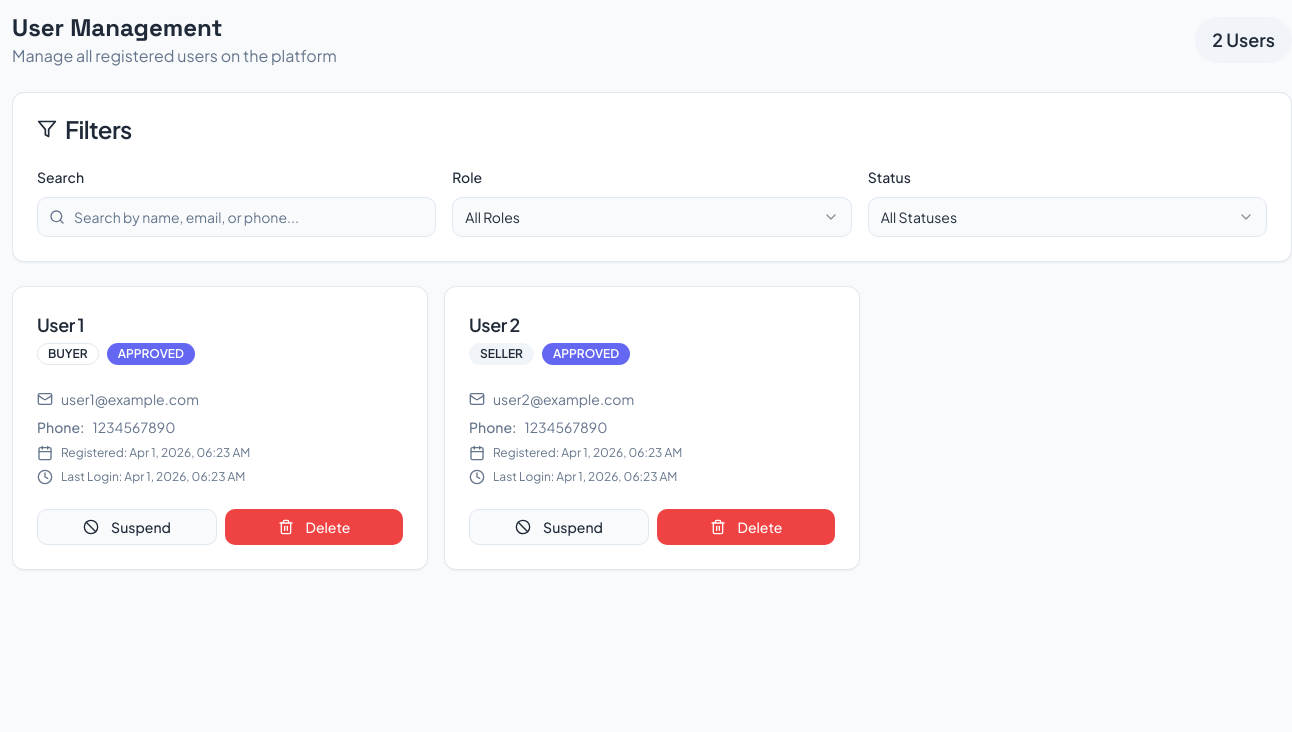
Test: UserManagement › should reset all filters when reset button is clicked
expect the text "User 1" is shown: met, box 37,313 -> 84,336
Note: Apply filters
Type "User 1" into the field with placeholder "Search by name, email, or phone..." at (237, 217), box 37,197 -> 436,237
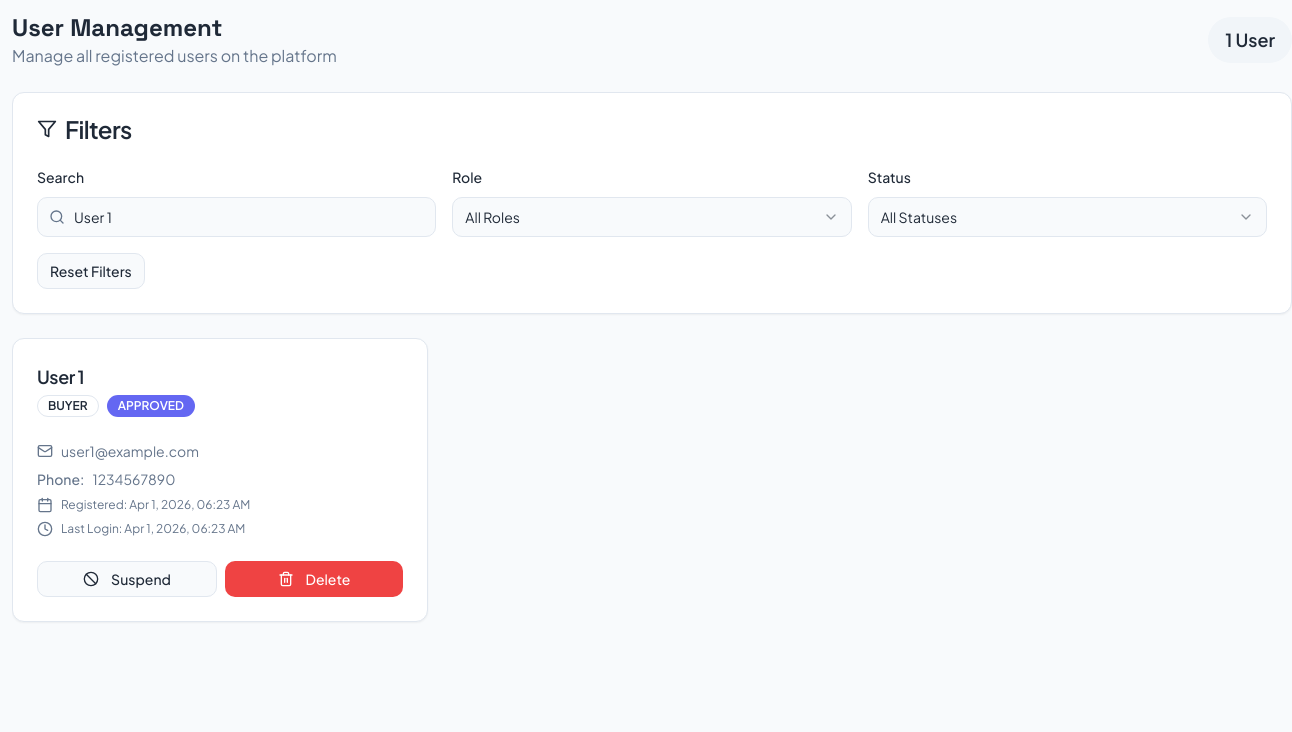
expect the text "User 2" is gone: met
Note: Reset filters
Click the button "Reset Filters" at (91, 271), box 37,253 -> 145,289
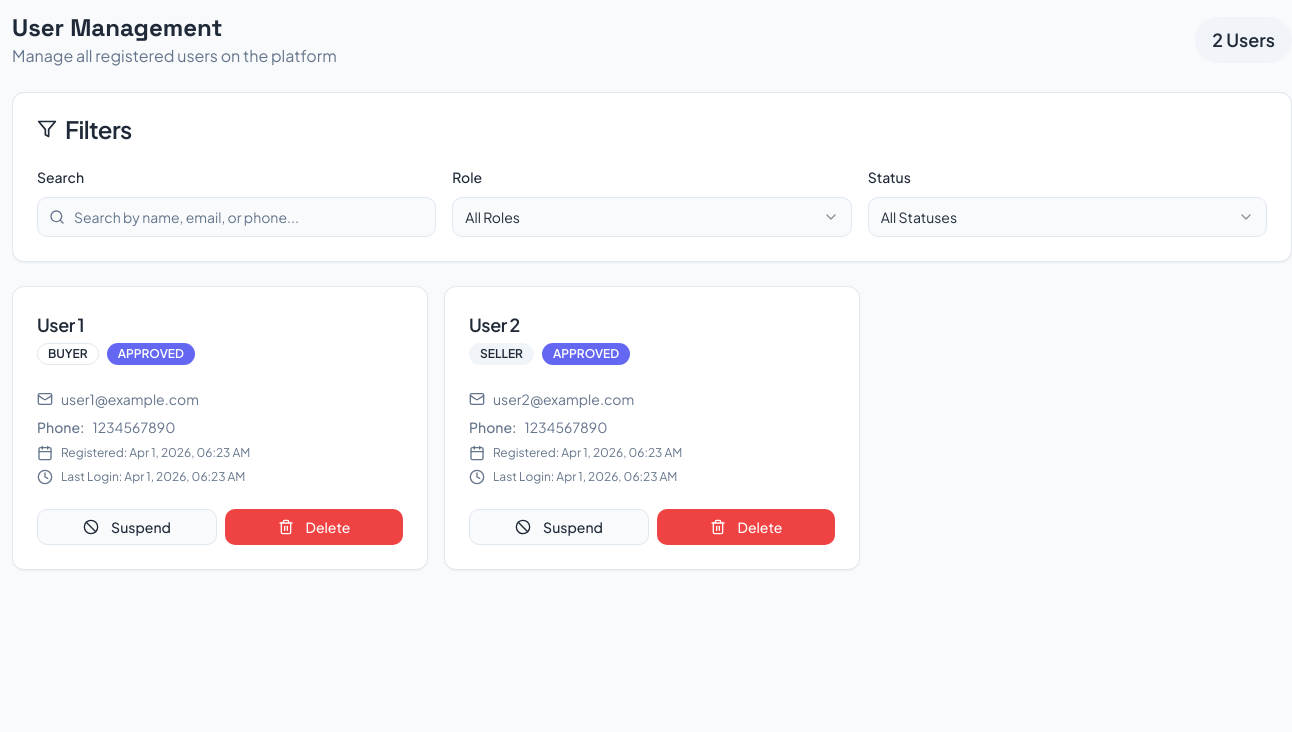
expect the text "User 1" is shown: met, box 37,313 -> 84,336
expect the text "User 2" is shown: met, box 469,313 -> 520,336
